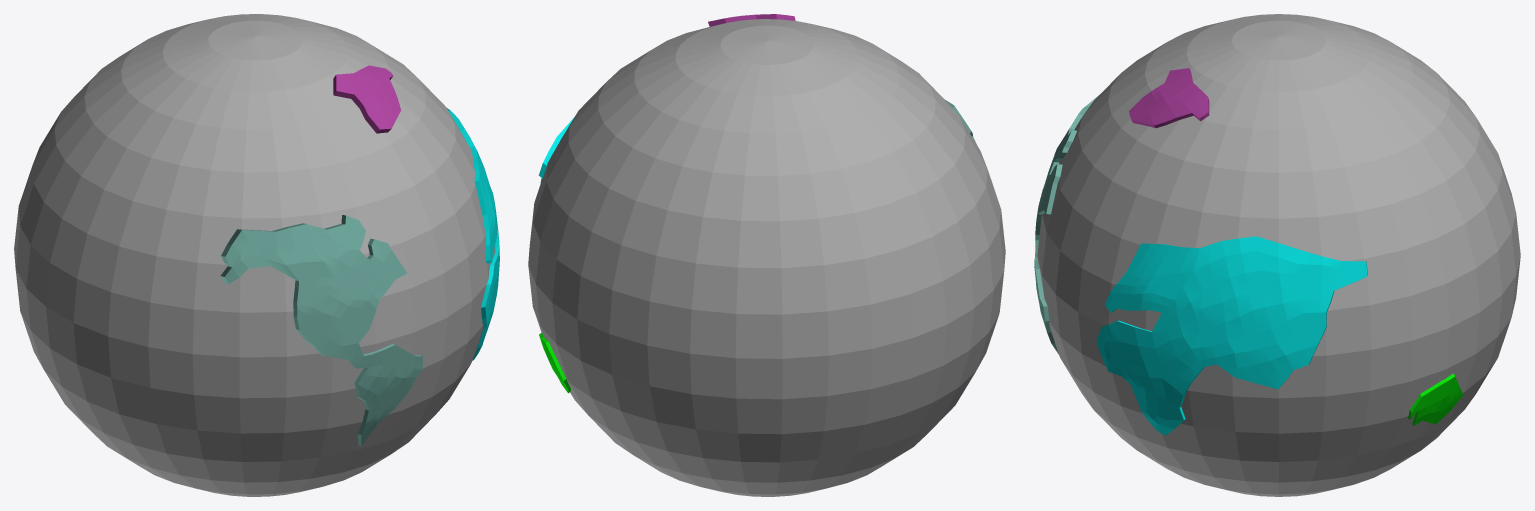
File: Planet_Whole.fbx
The picture shows the model from 3 angles, left to right: view 1: azimuth 30°, elevation 25°; view 2: azimuth 150°, elevation 25°; view 3: azimuth 270°, elevation 25°; orthographic projection.
Parts seen in each view (by area): view 1: Planet, Continent2, Continent1, Continent3; view 2: Planet; view 3: Planet, Continent3, Continent1, Continent2, Continent4.
Part boxes in pixels (x1,y1,x2,y2): Planet: (14,14,495,496); Continent2: (220,215,422,446); Continent1: (333,65,401,133); Continent3: (447,108,499,360); Planet: (528,19,1005,496); Planet: (1037,14,1520,496); Continent3: (1096,236,1367,435); Continent1: (1129,68,1209,128); Continent2: (1034,94,1099,354); Continent4: (1408,373,1462,425).
Bounding box in the file's own units: 5640 × 5600 × 5637.
